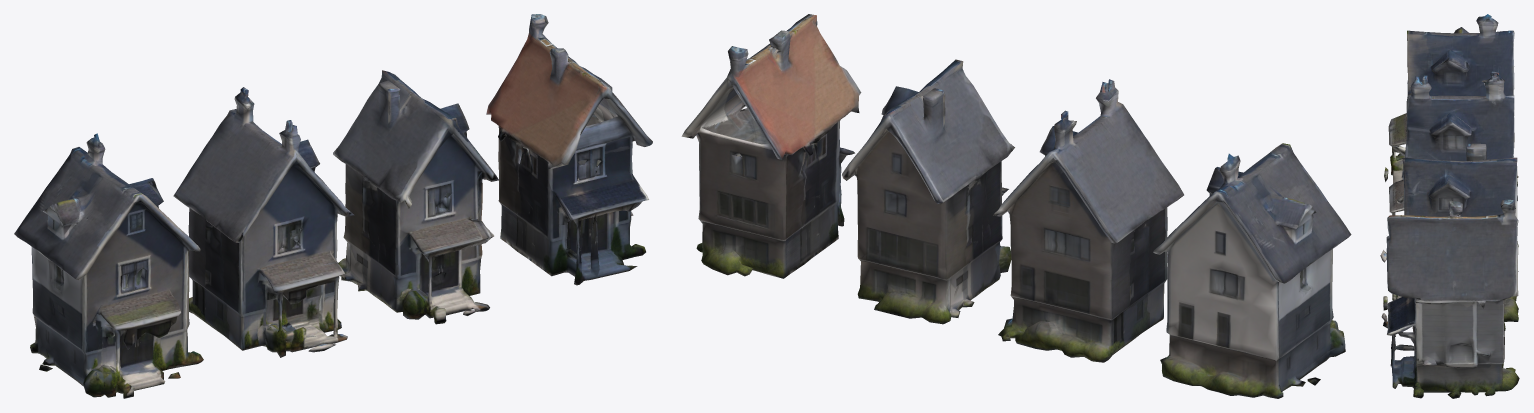
Rendered from town.glb.
3 views of the same model, side by side, from view 1: azimuth 30°, elevation 25°; view 2: azimuth 150°, elevation 25°; view 3: azimuth 270°, elevation 25° (orthographic). The views are drawn at different scales.
Visible parts, largest first — view 1: Mesh_0; view 2: Mesh_0; view 3: Mesh_0.
Part boxes in pixels (left/top/right/bottom): Mesh_0: left=14, top=14, right=652, bottom=398; Mesh_0: left=681, top=14, right=1351, bottom=398; Mesh_0: left=1380, top=14, right=1519, bottom=398.
Bounding box in the file's own units: 2 × 0.7215 × 0.495.
Materials: 1 (1 with a texture image).
